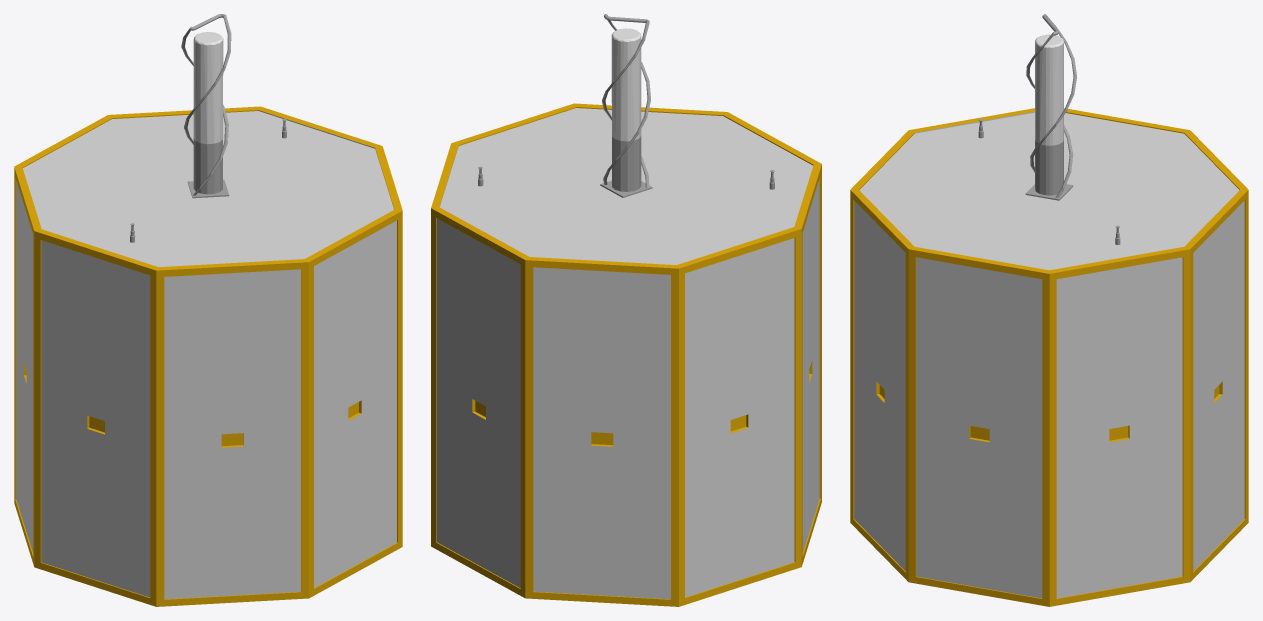
Rendered from scd1.glb.
3 views of the same model, side by side, from view 1: azimuth 30°, elevation 25°; view 2: azimuth 150°, elevation 25°; view 3: azimuth 270°, elevation 25° (orthographic).
Visible parts, largest first — view 1: Scd; view 2: Scd; view 3: Scd.
Boxes of the visible parts, x1,y1,x2,y2 form: Scd: (14, 14, 402, 606); Scd: (431, 14, 821, 606); Scd: (850, 14, 1248, 606).
Bounding box in the file's own units: 109 × 151 × 109.
